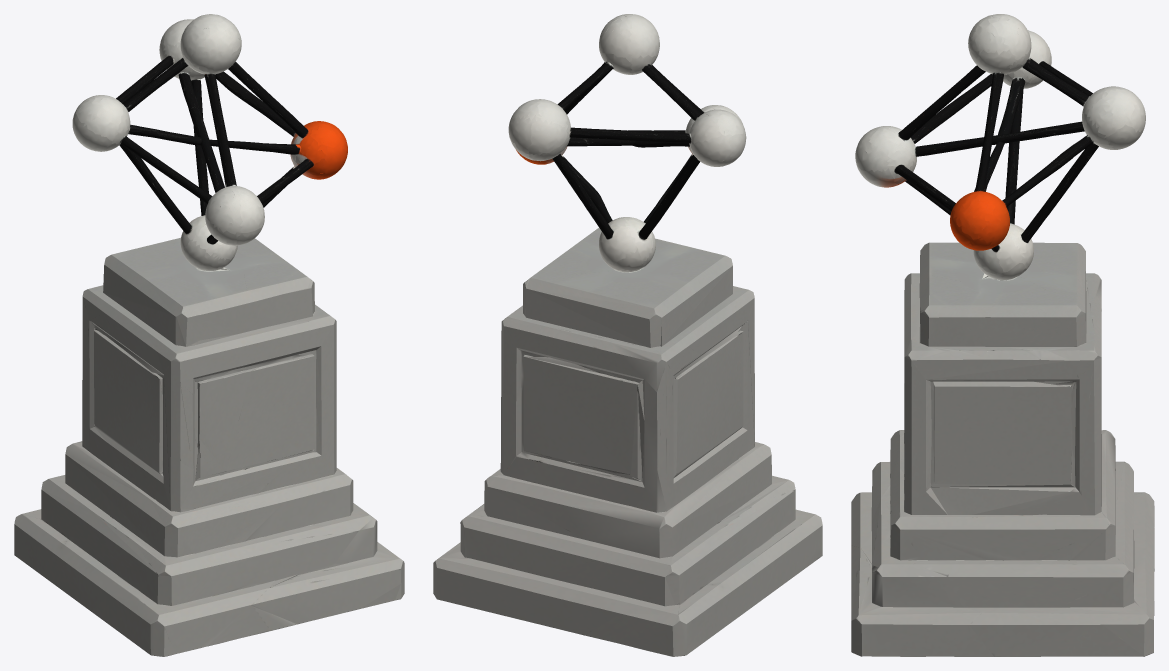
Rendered from linkedin.glb.
3 views of the same model, side by side, from view 1: azimuth 30°, elevation 25°; view 2: azimuth 150°, elevation 25°; view 3: azimuth 270°, elevation 25° (orthographic). The views are drawn at different scales.
Size of the model in its own units: 0.9064 by 1.9 by 0.9065.
Materials: 1 (1 with a texture image).
